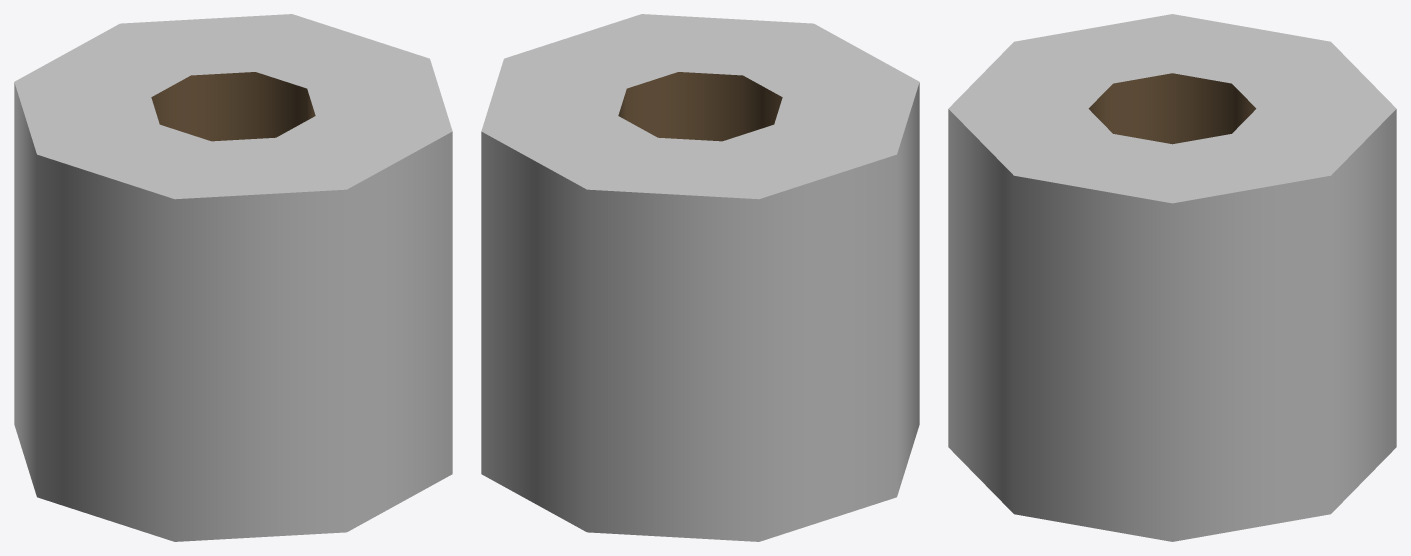
Rendered from ToiletPaper.fbx.
3 renders of one model, left to right at view 1: azimuth 30°, elevation 25°; view 2: azimuth 150°, elevation 25°; view 3: azimuth 270°, elevation 25°, orthographic.
Visible parts, largest first — view 1: Tube; view 2: Tube; view 3: Tube.
Part boxes in pixels (bbox=[...]): Tube: bbox=[14, 14, 452, 541]; Tube: bbox=[481, 14, 919, 541]; Tube: bbox=[948, 14, 1396, 541].
Size of the model in its own units: 12 by 10 by 12.
